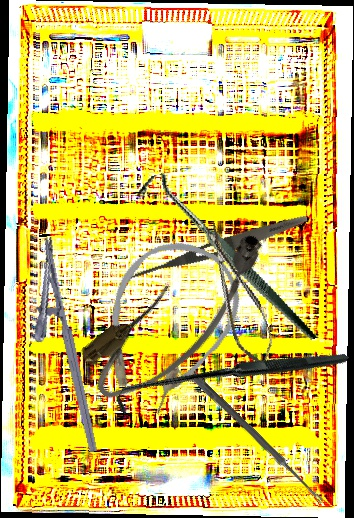Cannula: (72, 221, 290, 414), (76, 223, 257, 429)
Dressing Forceps: (120, 209, 310, 290)
Hook Surgical: (112, 264, 349, 499), (136, 143, 317, 376)
Micro Scissor: (195, 215, 281, 373)
Needle Holder: (14, 236, 99, 459)
Surgical Spoon: (189, 372, 326, 505)
